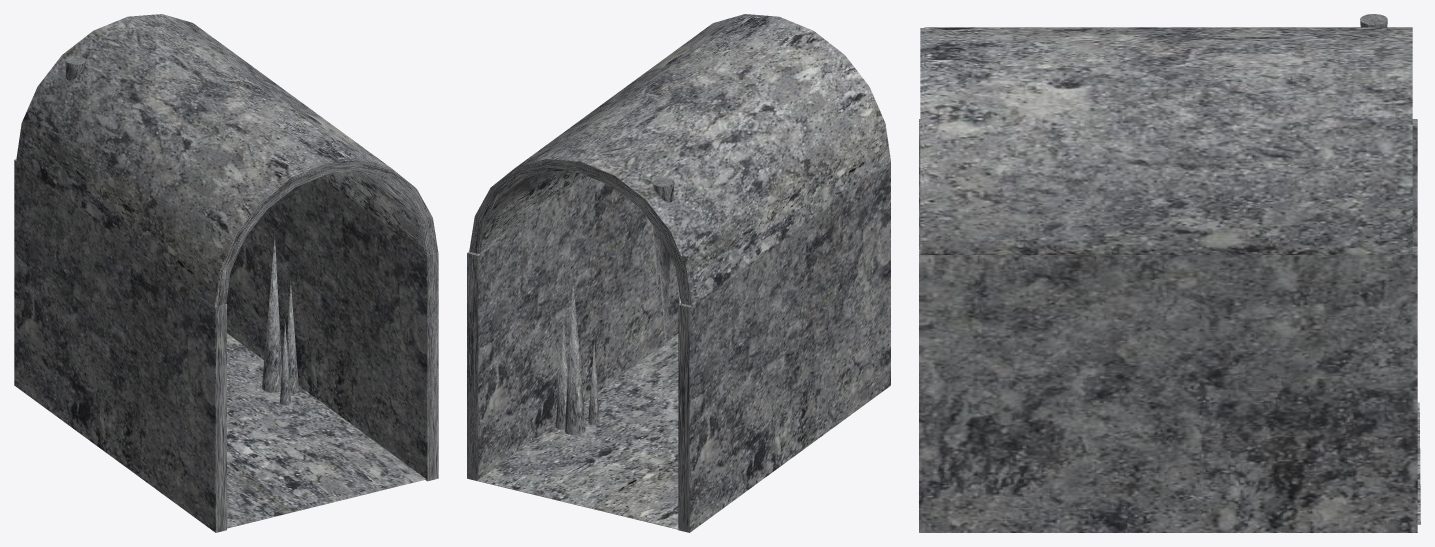
File: grot lang stuk.fbx
The picture shows the model from 3 angles, left to right: view 1: azimuth 30°, elevation 25°; view 2: azimuth 150°, elevation 25°; view 3: azimuth 270°, elevation 25°; orthographic projection. The views are drawn at different scales.
Visible parts, largest first — view 1: pCube2, pasted__pPipe2, pasted__pasted__pCube2, pCube4, pPipe2, pasted__pCone1, pasted__pCube2, pasted__pasted__pCone1 (×2); view 2: pasted__pPipe2, pCube2, pasted__pasted__pCube2, pCube4, pPipe2, pasted__pCube2, pasted__pCone1, pasted__pasted__pCone1 (×2), pCone1; view 3: pasted__pCube2, pasted__pPipe2, pPipe2, pCube2.
Boxes of the visible parts, left/top/right/bottom form: pCube2: left=14, top=159, right=226, bottom=532; pasted__pPipe2: left=16, top=14, right=425, bottom=267; pasted__pasted__pCube2: left=226, top=177, right=438, bottom=481; pCube4: left=227, top=333, right=426, bottom=528; pPipe2: left=16, top=124, right=438, bottom=307; pasted__pCone1: left=262, top=236, right=281, bottom=392; pasted__pCube2: left=427, top=253, right=438, bottom=480; pasted__pasted__pCone1 (×2): left=280, top=281, right=298, bottom=405; pasted__pPipe2: left=469, top=14, right=883, bottom=305; pCube2: left=678, top=162, right=890, bottom=532; pasted__pasted__pCube2: left=467, top=176, right=679, bottom=480; pCube4: left=477, top=334, right=678, bottom=529; pPipe2: left=486, top=14, right=890, bottom=306; pasted__pCube2: left=467, top=251, right=479, bottom=480; pasted__pCone1: left=565, top=279, right=585, bottom=434; pasted__pasted__pCone1 (×2): left=555, top=320, right=599, bottom=429; pCone1: left=653, top=177, right=674, bottom=347; pasted__pCube2: left=919, top=246, right=1417, bottom=532; pasted__pPipe2: left=924, top=27, right=1412, bottom=253; pPipe2: left=920, top=28, right=1410, bottom=254; pCube2: left=919, top=119, right=1417, bottom=246.
Size of the model in its own units: 12.83 by 18.82 by 20.16.
